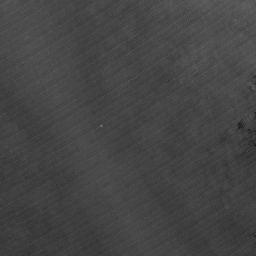Target: (97, 122, 104, 130)
